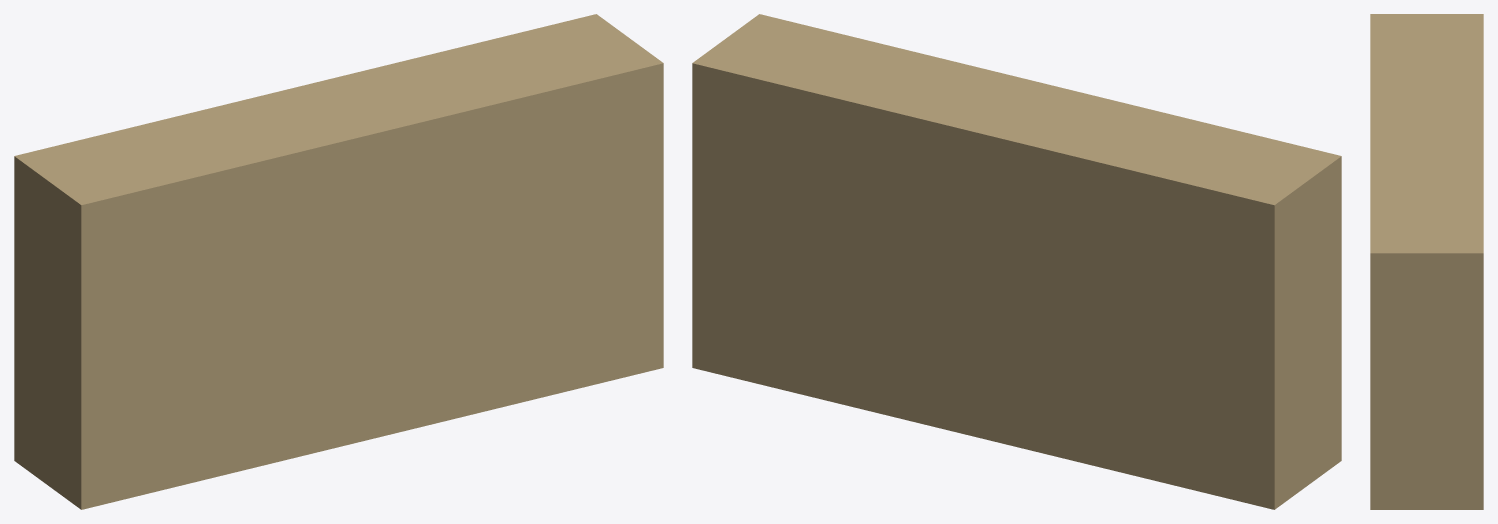
Rendered from 20C_SendBag_200.fbx.
The picture shows the model from 3 angles, left to right: view 1: azimuth 30°, elevation 25°; view 2: azimuth 150°, elevation 25°; view 3: azimuth 270°, elevation 25°; orthographic projection. The views are drawn at different scales.
Parts seen in each view (by area): view 1: 20C_SendBag_200; view 2: 20C_SendBag_200; view 3: 20C_SendBag_200.
Part boxes in pixels (left/top/right/bottom): 20C_SendBag_200: left=14, top=14, right=663, bottom=509; 20C_SendBag_200: left=692, top=14, right=1341, bottom=509; 20C_SendBag_200: left=1370, top=14, right=1483, bottom=509.
Bounding box in the file's own units: 40 × 20 × 8.
